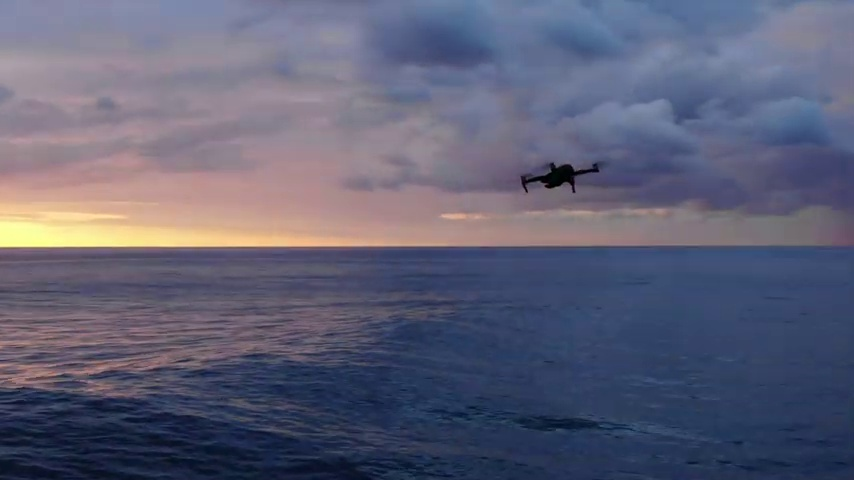drone: (519, 160, 598, 195)
